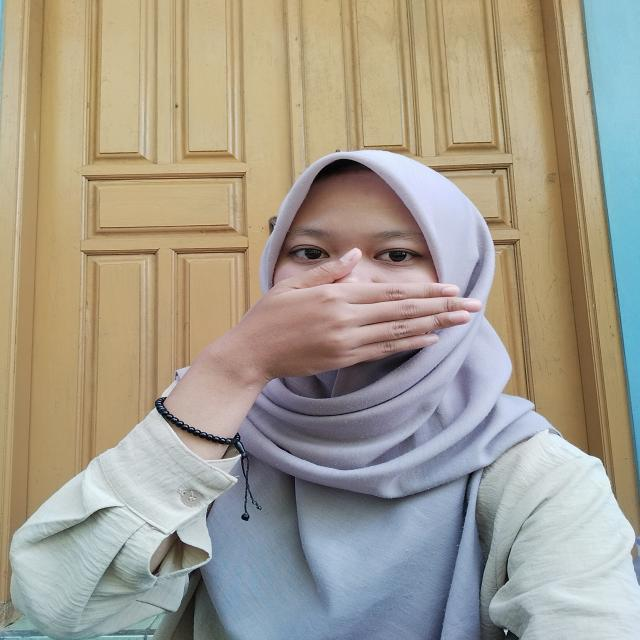buruk: (126, 250, 486, 394)
